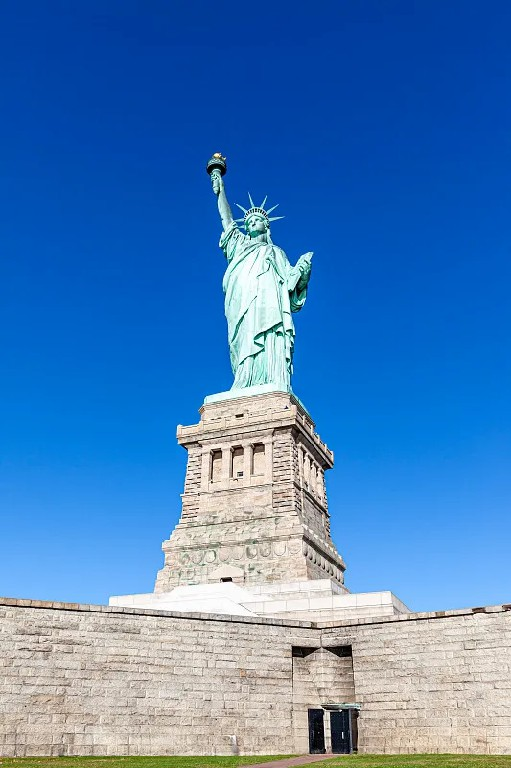SL: (152, 152, 346, 592)
